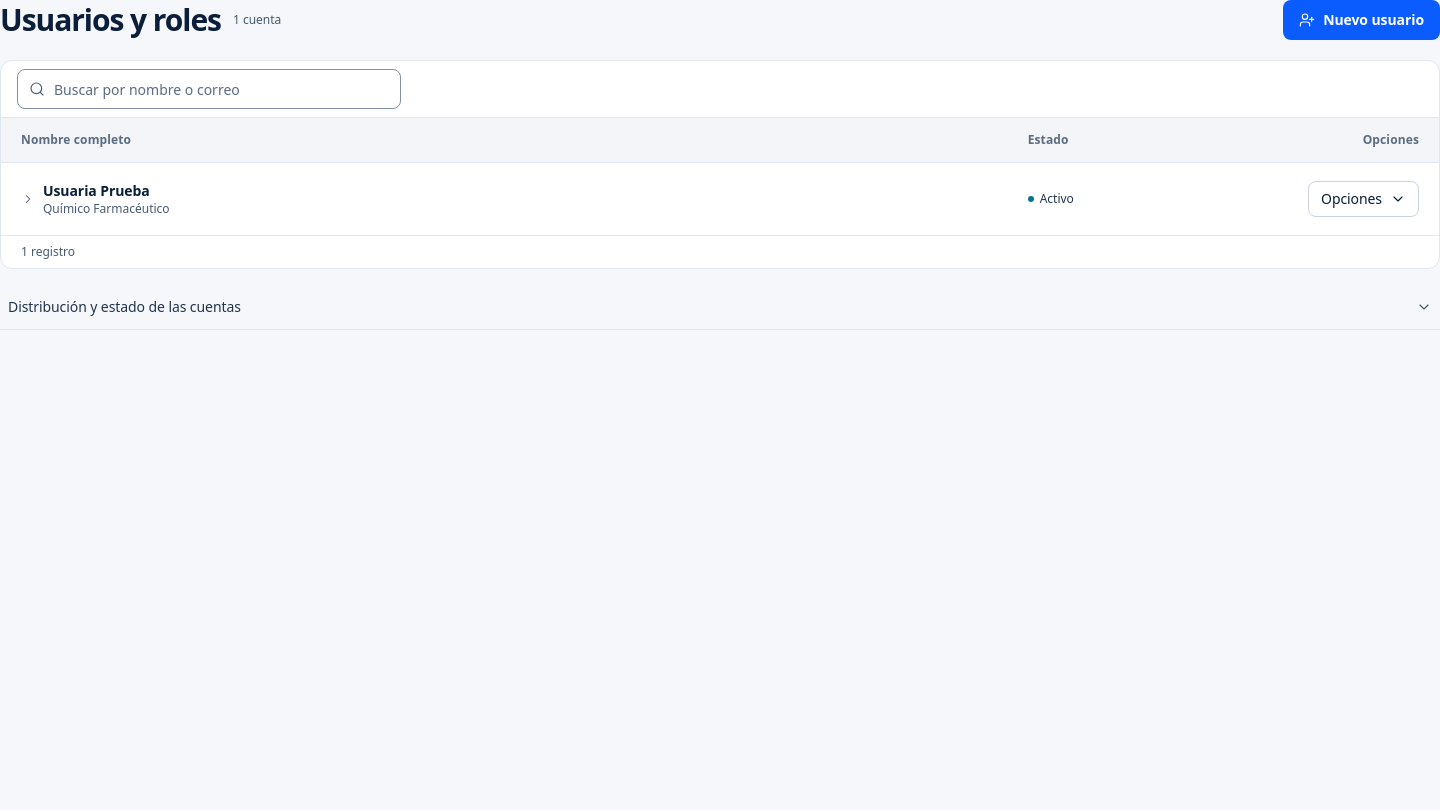
Test: UsuariosPage (HU-41, HU-45, RF-17) › «Generar» crea una contraseña que cumple la política y la muestra
Click the button "Nuevo usuario".
click(1362, 20)  # box [1283,0,1439,40]
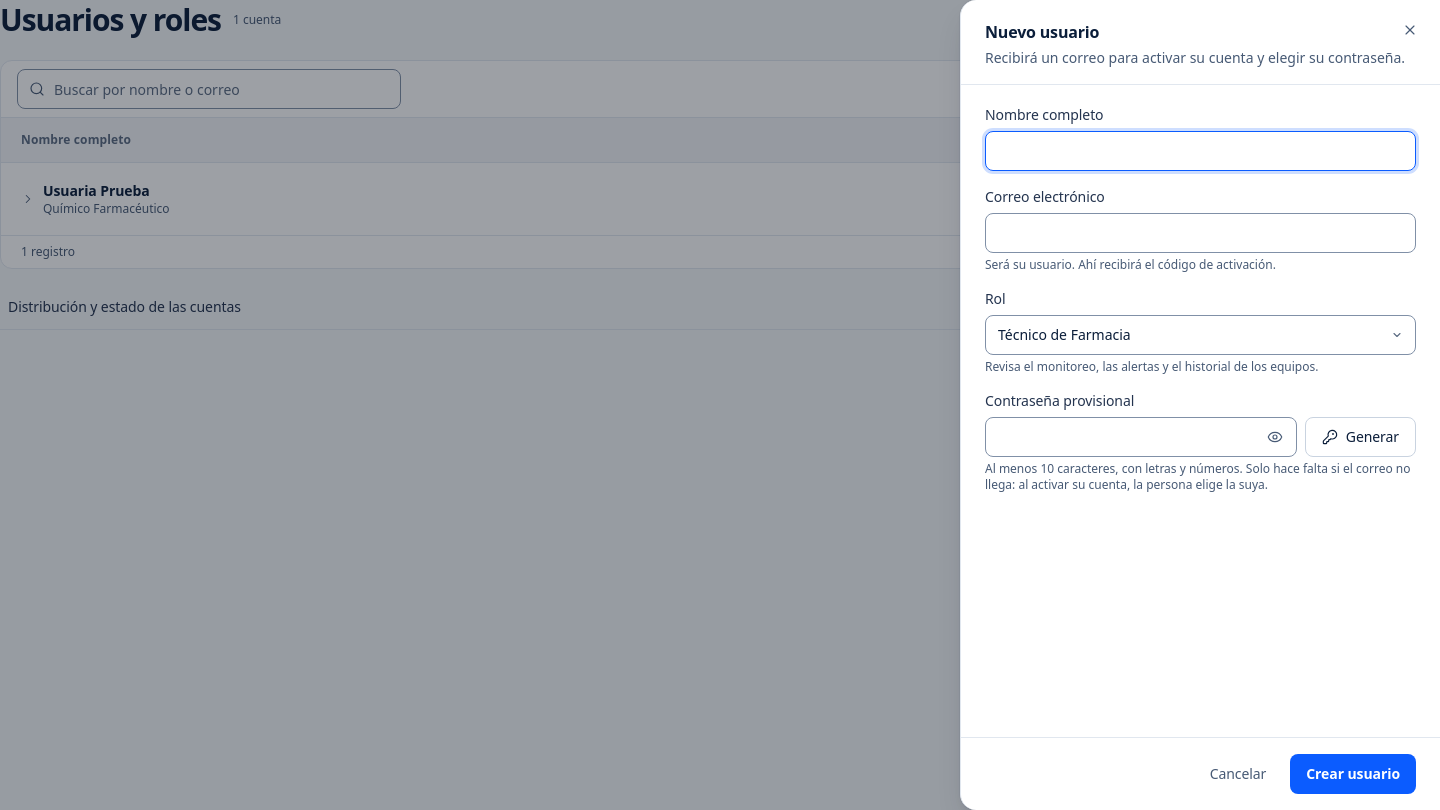
Click the button "Generar".
click(1360, 437)  # box [1305,417,1416,457]
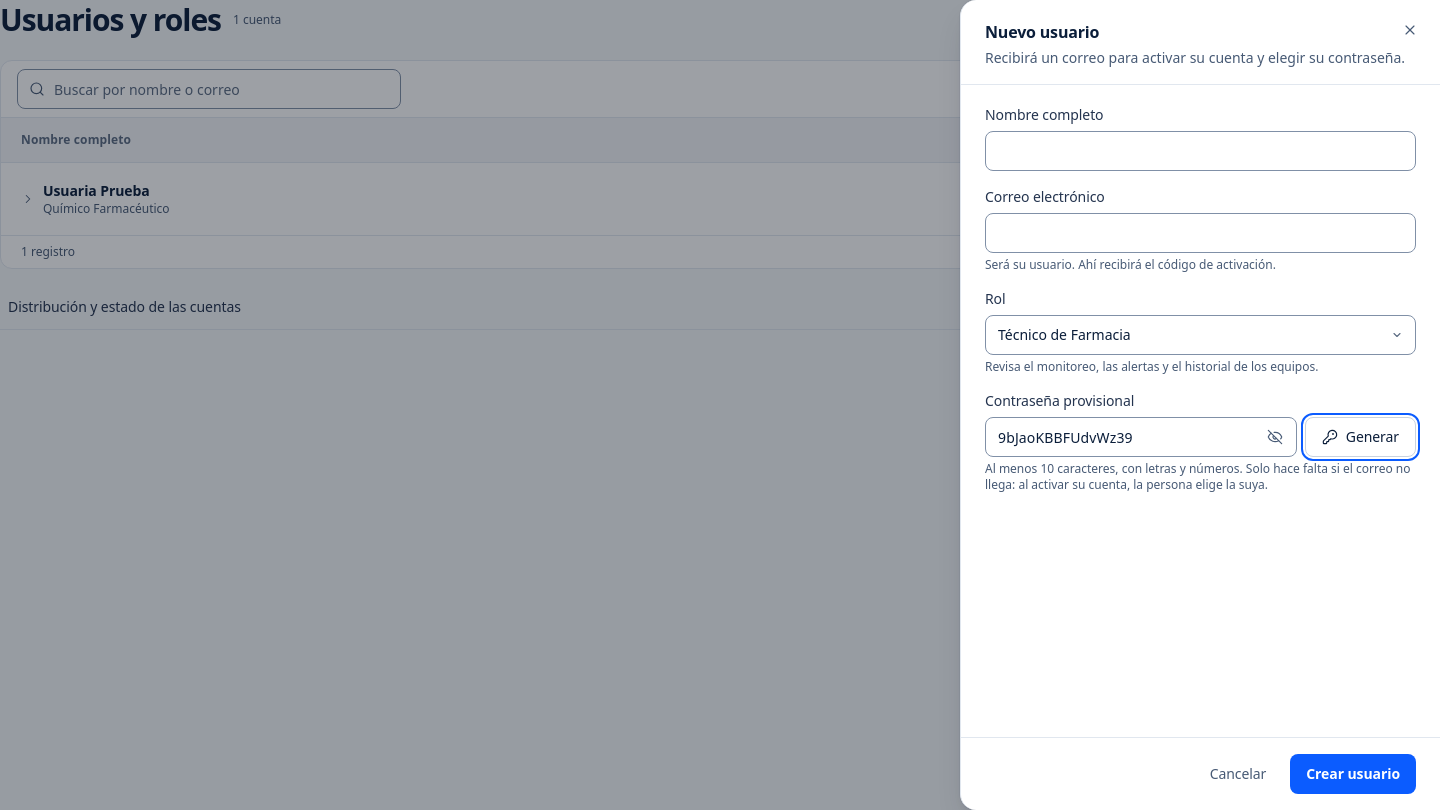
Expected: the field labelled "Contraseña provisional" shows its text, [985,417,1297,457]
